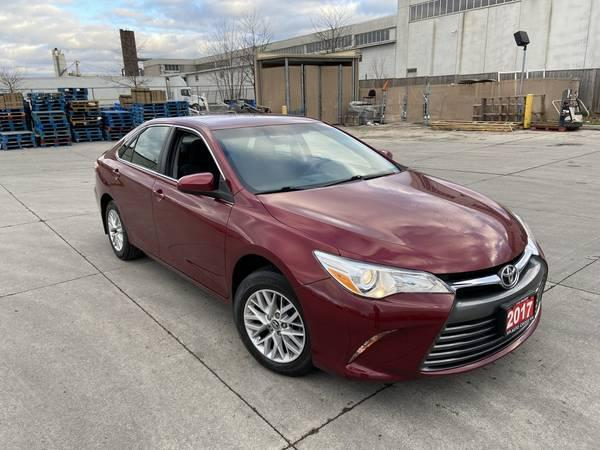Front_Bumper: (295, 278, 455, 381)
Front_Fender: (224, 189, 340, 288)
Front_Right_Door: (154, 171, 233, 305)
Front_Right_Window: (159, 125, 235, 205)
Front_Windshield: (214, 122, 408, 194)
Grille: (418, 241, 548, 371)
Hood: (259, 170, 526, 270)
Rear_Fender: (96, 153, 117, 210)
Rear_Right_Door: (110, 159, 158, 261)
Rear_Right_Window: (117, 124, 174, 174)
Right_Headlight: (312, 251, 453, 297)
Roof: (103, 111, 322, 193)
Wheel: (231, 273, 311, 374), (103, 202, 127, 260)
